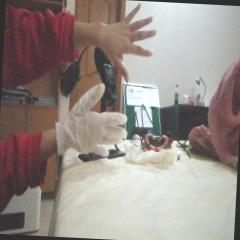gloved: (54, 80, 128, 160)
not-gloved: (84, 0, 158, 85)
